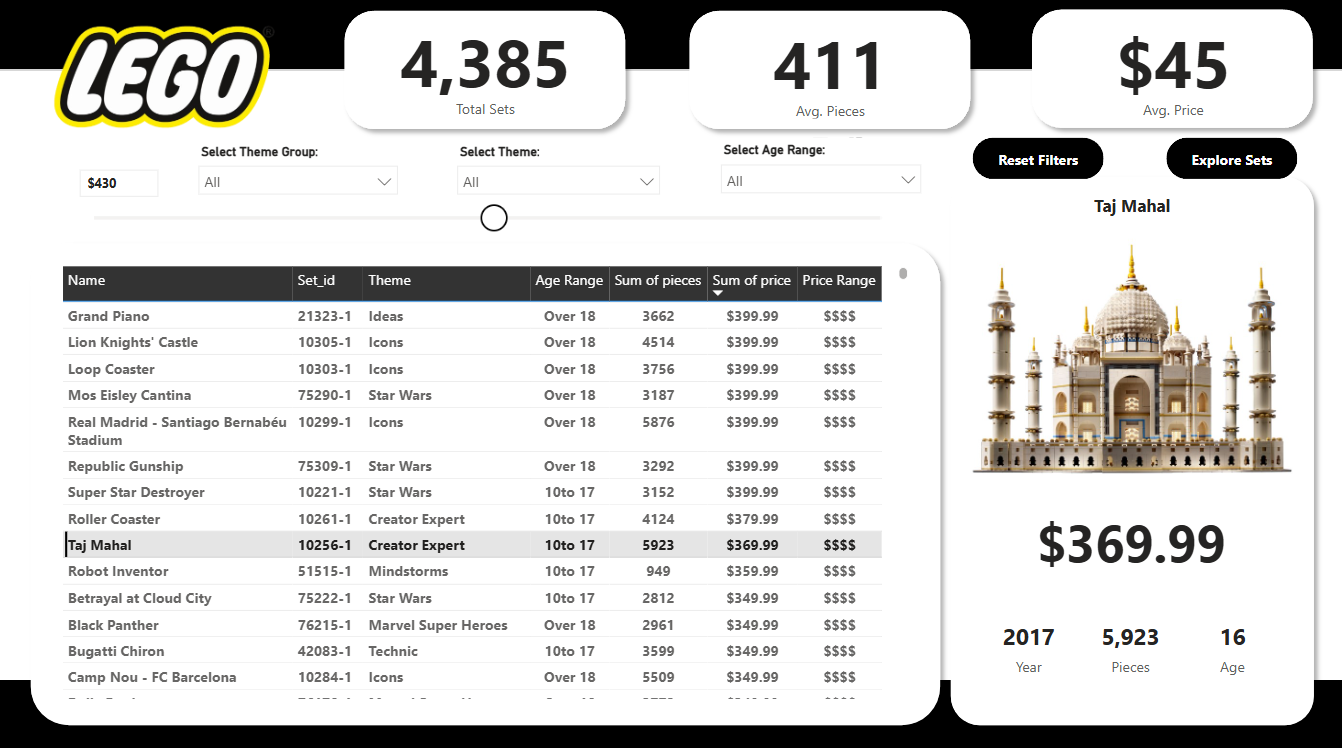

This screenshot's page, from the dashboard's own definition file:
{"tool":"powerbi","page":{"name":"LEGO Set Finder","canvas":[1280,720],"ordinal":0},"visuals":[{"type":"shape","box":[0,0,1280.2,719.8],"z":1000},{"type":"slicer","fields":{"Values":["Max Price.Max Price"]},"box":[67.8,154.9,793.7,80.3],"z":2000},{"type":"shape","box":[0,0,1279.9,71.2],"z":3000},{"type":"shape","box":[0,649,1279.9,71.2],"z":4000},{"type":"shape","box":[322.2,5.7,283.8,130],"z":5000},{"type":"shape","box":[649,5.7,283.8,130],"z":6000},{"type":"shape","box":[973.5,4.5,283.8,130],"z":7000},{"type":"shape","box":[895.5,162.8,361.8,537.1],"z":8000},{"type":"shape","box":[24.4,225.6,879.1,474.4],"z":9000},{"type":"image","box":[15.8,0,294,145.9],"z":10000},{"type":"card","fields":{"Values":["Measure Table.Total Sets"]},"box":[350.5,18.1,228.4,101.8],"z":11000},{"type":"card","fields":{"Values":["Measure Table.Avg. Pieces"]},"box":[677.3,20.4,228.4,101.8],"z":12000},{"type":"card","fields":{"Values":["Measure Table.Avg. Price"]},"box":[1011.9,18.1,208,104],"z":13000},{"type":"slicer","fields":{"Values":["lego_sets.theme"]},"box":[427.4,135.7,212.6,61.1],"z":14000},{"type":"slicer","fields":{"Values":["lego_sets.Age Range"]},"box":[677.3,134.5,210.3,62.2],"z":15000},{"type":"slicer","fields":{"Values":["lego_sets.themeGroup"]},"box":[182,135.7,209.2,61.1],"z":16000},{"type":"tableEx","fields":{"Values":["lego_sets.name","lego_sets.set_id","lego_sets.theme","lego_sets.Age Range","Sum(lego_sets.pieces)","Sum(lego_sets.price)","lego_sets.Price Range"]},"box":[58.1,252.3,811.6,419.8],"z":17000},{"type":"card","fields":{"Values":["Measure Table.Selected Set"]},"box":[940.7,179.1,272.1,45.3],"z":18000},{"type":"simpleImageEBC4593F96F1425FB3D84C5BF02B5075","fields":{"imageURL":["lego_sets.imageURL"]},"box":[927.1,281.5,5.7,299.6],"z":19000},{"type":"simpleImageEBC4593F96F1425FB3D84C5BF02B5075","fields":{"imageURL":["lego_sets.imageURL"]},"box":[915.1,224.4,324.4,238.4],"z":20000},{"type":"card","fields":{"Values":["Measure Table.Selected Price"]},"box":[925.6,484.9,301.2,62.8],"z":21000},{"type":"card","fields":{"Values":["Measure Table.Selected Year"]},"box":[930.5,585.7,97.2,63.3],"z":22000},{"type":"card","fields":{"Values":["Measure Table.Selected Pieces = if(HASONEVALUE(lego_sets[pieces]),MAX(lego_sets[pieces]),\"-\")"]},"box":[1026.6,585.7,98.4,63.3],"z":23000},{"type":"card","fields":{"Values":["Measure Table.Selected Age"]},"box":[1122.7,585.7,97.2,63.3],"z":24000},{"type":"actionButton","box":[926,134.5,124.4,39.6],"z":25000},{"type":"actionButton","box":[1109.2,134.5,124.4,39.6],"z":26000}]}

Visuals, with their boxes in screenshot pixels (x1, y1, x2, y2), scaled from the page's 1280x720 canvas onto the 1342x748 screenshot:
shape: 0,0,1341,747
slicer - Max Price.Max Price: 71,161,903,244
shape: 0,0,1341,74
shape: 0,674,1341,747
shape: 338,6,635,141
shape: 680,6,978,141
shape: 1021,5,1318,140
shape: 939,169,1318,727
shape: 26,234,947,727
image: 17,0,325,152
card - Measure Table.Total Sets: 367,19,607,125
card - Measure Table.Avg. Pieces: 710,21,950,127
card - Measure Table.Avg. Price: 1061,19,1279,127
slicer - lego_sets.theme: 448,141,671,204
slicer - lego_sets.Age Range: 710,140,931,204
slicer - lego_sets.themeGroup: 191,141,410,204
tableEx - lego_sets.name x lego_sets.set_id: 61,262,912,698
card - Measure Table.Selected Set: 986,186,1272,233
simpleImageEBC4593F96F1425FB3D84C5BF02B5075 - lego_sets.imageURL: 972,292,978,604
simpleImageEBC4593F96F1425FB3D84C5BF02B5075 - lego_sets.imageURL: 959,233,1300,481
card - Measure Table.Selected Price: 970,504,1286,569
card - Measure Table.Selected Year: 976,608,1077,674
card - Measure Table.Selected Pieces = if(HASONEVALUE(lego_sets[pieces]),MAX(lego_sets[pieces]),"-"): 1076,608,1179,674
card - Measure Table.Selected Age: 1177,608,1279,674
actionButton: 971,140,1101,181
actionButton: 1163,140,1293,181
